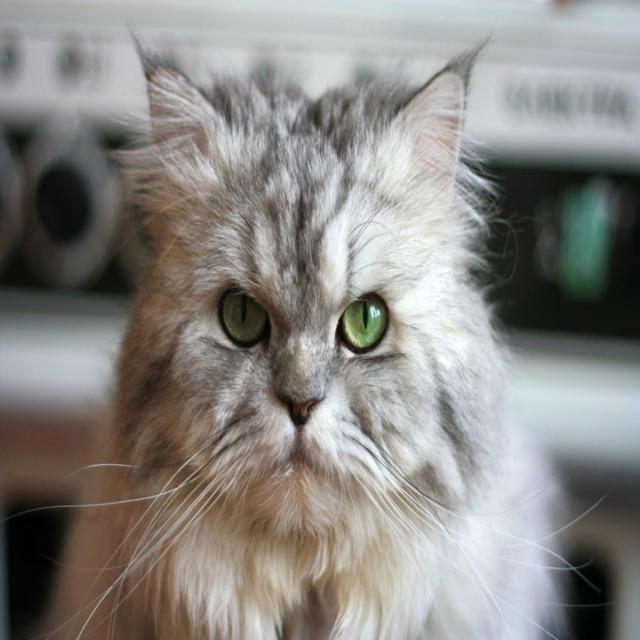Cat: (0, 18, 614, 638)
